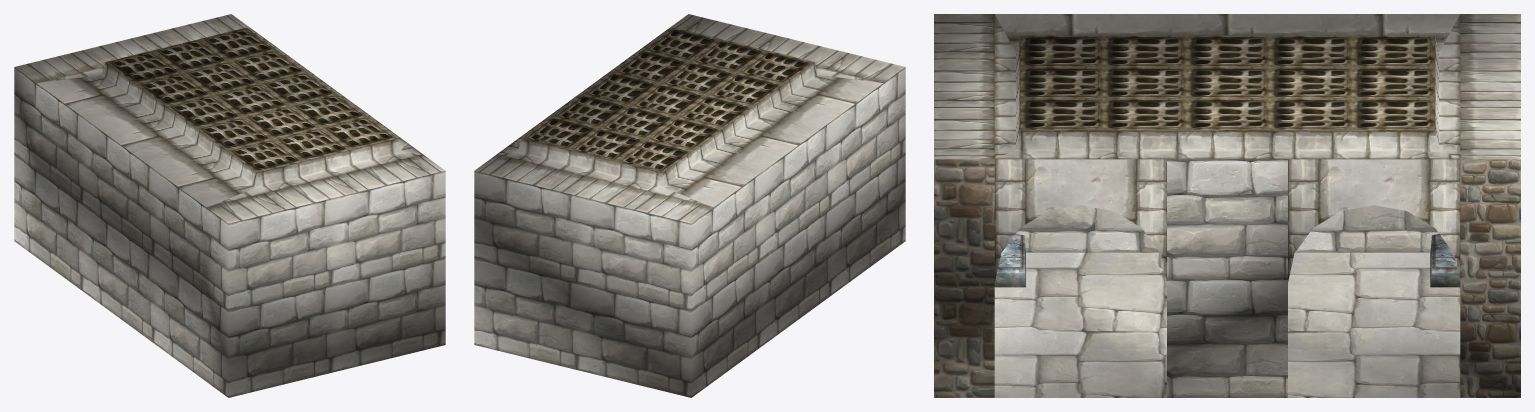
File: stormwind_055.fbx
The picture shows the model from 3 angles, left to right: view 1: azimuth 30°, elevation 25°; view 2: azimuth 150°, elevation 25°; view 3: azimuth 270°, elevation 25°; orthographic projection. The views are drawn at different scales.
Visible parts, largest first — view 1: stormwind_055_39, stormwind_055_40, stormwind_055_81; view 2: stormwind_055_39, stormwind_055_40, stormwind_055_81; view 3: stormwind_055_40, stormwind_055_52, stormwind_055_81, stormwind_055_39, stormwind_055_38, stormwind_055_82.
Boxes of the visible parts, x1,y1,x2,y2 form: stormwind_055_39: (14,67,445,397); stormwind_055_40: (15,14,445,223); stormwind_055_81: (106,27,397,172); stormwind_055_39: (474,67,905,397); stormwind_055_40: (474,14,904,223); stormwind_055_81: (522,27,813,172); stormwind_055_40: (934,14,1520,282); stormwind_055_52: (994,252,1460,397); stormwind_055_81: (1020,35,1434,129); stormwind_055_39: (1016,159,1438,397); stormwind_055_38: (934,159,1520,397); stormwind_055_82: (994,233,1460,287).
Bounding box in the file's own units: 8.02 × 6.62 × 13.7.
